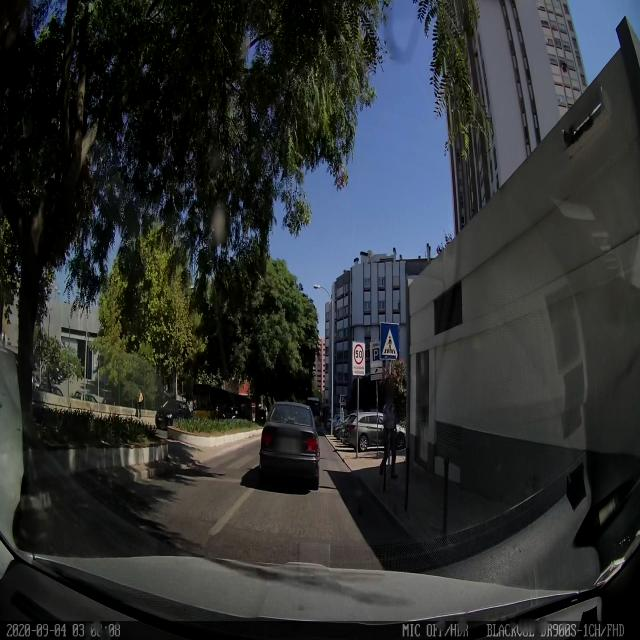car: (259, 401, 320, 489), (343, 412, 408, 450), (160, 400, 194, 424), (72, 389, 100, 403)
